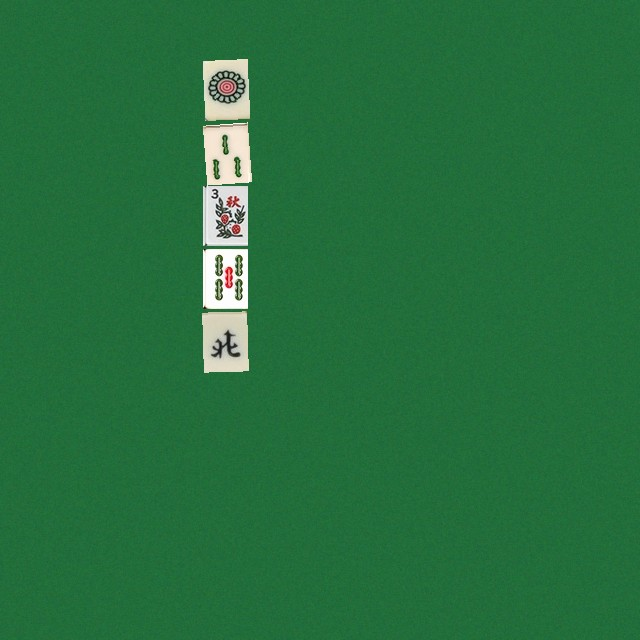tile: (202, 59, 247, 119), (202, 122, 247, 182), (202, 185, 247, 245), (202, 248, 247, 308), (202, 311, 247, 371)
